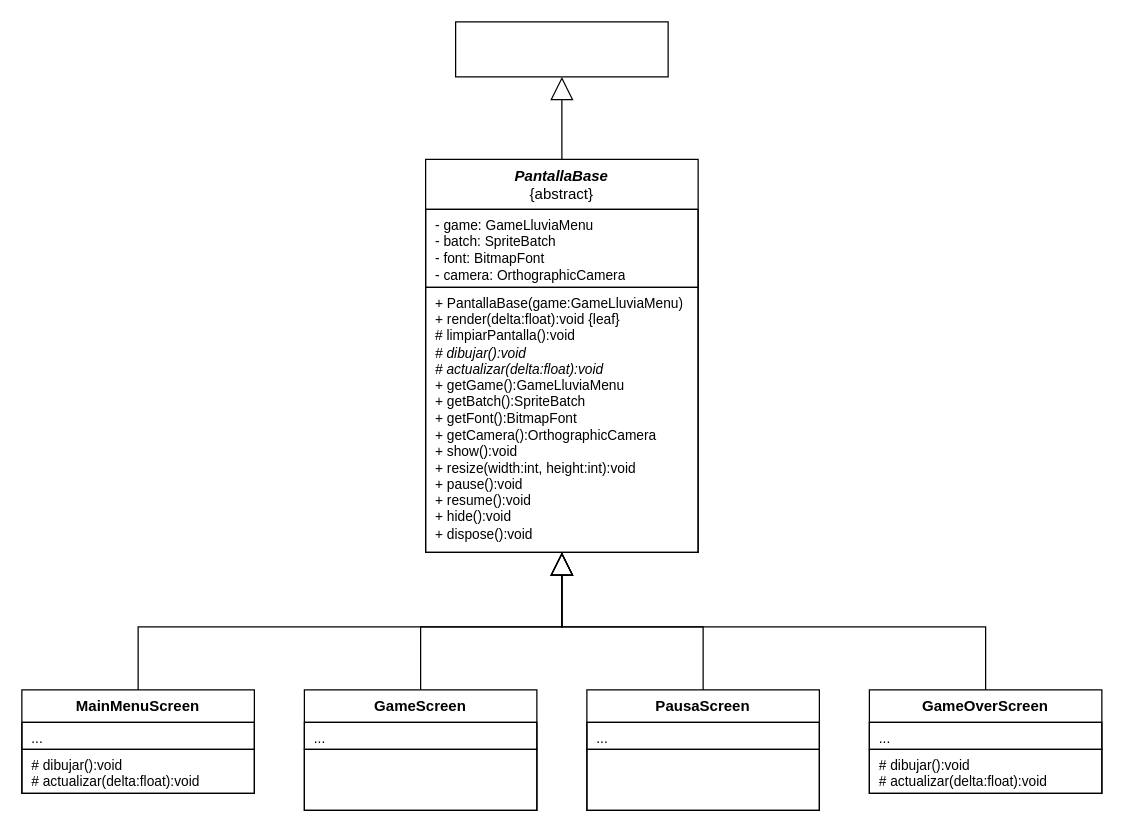
The diagram is 1124 pixels wide and 836 high, and some of its shapes have lost their labels. The centre of each missing label's shape, as x and y in pixels:
# dibujar():void # actualizar(delta:float):void ...: the point at 420,779
# limpiarPantalla():void # dibujar():void # actualizar(delta:float):void: the point at 702,779
<<interface>> Screen: the point at 561,49
